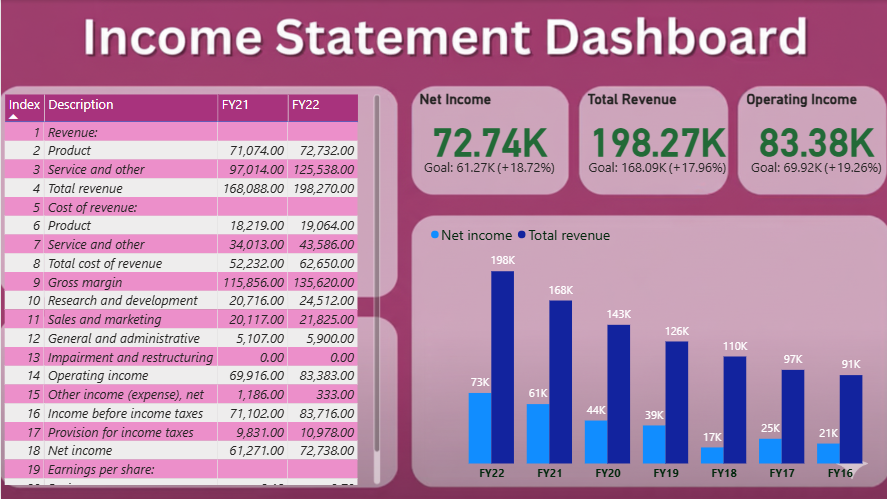

What the dashboard file says about the page in this screenshot:
{"tool":"powerbi","page":{"name":"Page 1","canvas":[1280,720],"ordinal":0},"visuals":[{"type":"tableEx","fields":{"Values":["Yearly Income Statements.Index","Yearly Income Statements.Description","Yearly Income Statements.FY21","Yearly Income Statements.FY22"]},"box":[0,131.4,550.7,570.9],"z":0},{"type":"kpi","title":"Net Income","fields":{"Indicator":["Sum(Net Income.FY22)"],"Goal":["Sum(Net Income.FY21)"],"TrendLine":["Net Income.Description"]},"box":[598,131,211.7,149.5],"z":1000},{"type":"kpi","title":"Total Revenue","fields":{"Indicator":["Sum(Total Revenue.FY22)"],"Goal":["Sum(Total Revenue.FY21)"],"TrendLine":["Total Revenue.Description"]},"box":[839.9,131,211.7,149.5],"z":2000},{"type":"kpi","title":"Operating Income","fields":{"Indicator":["Sum(Operating Income.FY22)"],"Goal":["Sum(Operating Income.FY21)"],"TrendLine":["Operating Income.Description"]},"box":[1068.3,131,211.7,149.5],"z":3000},{"type":"clusteredColumnChart","fields":{"Category":["Table.Description"],"Y":["Sum(Table.Net income)","Sum(Table.      Total revenue)"]},"box":[611.4,314.1,668.6,406.5],"z":4000}]}

Visuals, with their boxes in screenshot pixels (x1, y1, x2, y2), scaled from the page's 1280x720 canvas onto the 887x499 screenshot:
tableEx - Yearly Income Statements.Index x Yearly Income Statements.Description: bbox(0, 91, 382, 487)
"Net Income" kpi: bbox(414, 91, 561, 194)
"Total Revenue" kpi: bbox(582, 91, 729, 194)
"Operating Income" kpi: bbox(740, 91, 886, 194)
clusteredColumnChart - Table.Description x Sum(Table.Net income): bbox(424, 218, 886, 498)
